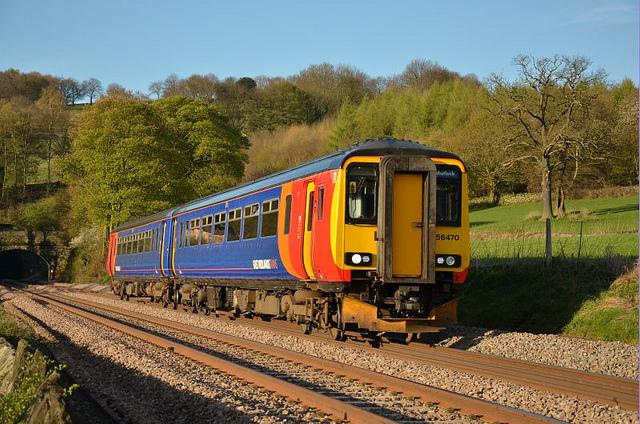Train: (107, 133, 475, 337)
